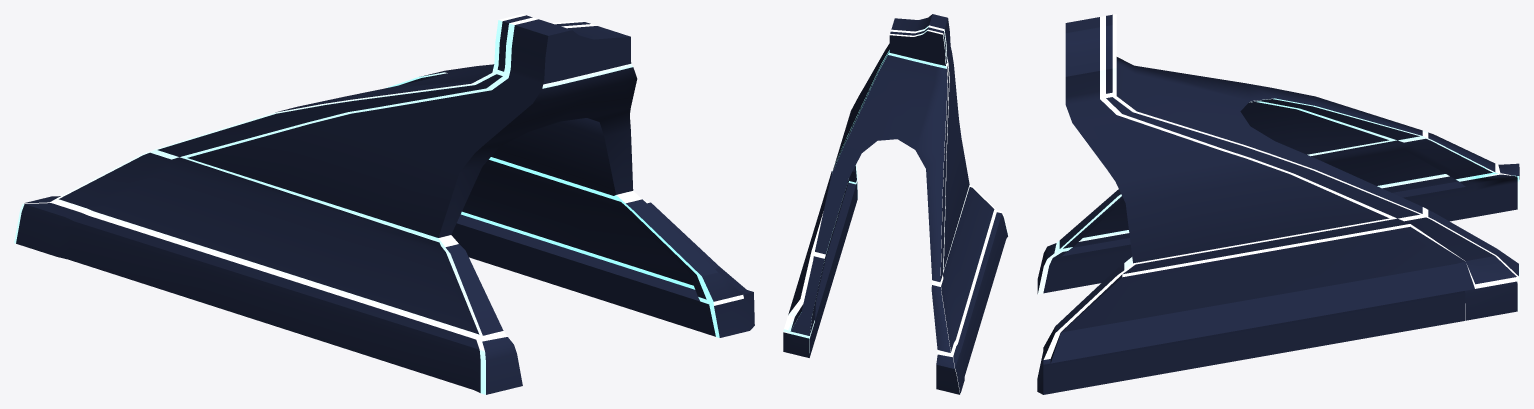
Rendered from Tower_2Ln_Angle2_.fbx.
3 views of the same model, side by side, from view 1: azimuth 30°, elevation 25°; view 2: azimuth 150°, elevation 25°; view 3: azimuth 270°, elevation 25° (orthographic). The views are drawn at different scales.
Visible parts, largest first — view 1: Tower_2Ln_Angle2_; view 2: Tower_2Ln_Angle2_; view 3: Tower_2Ln_Angle2_.
Part boxes in pixels (box(x1,y1,x2,y2)): Tower_2Ln_Angle2_: box(14, 14, 754, 394); Tower_2Ln_Angle2_: box(783, 14, 1008, 394); Tower_2Ln_Angle2_: box(1037, 14, 1519, 394).
Size of the model in its own units: 2467 by 1645 by 2487.
